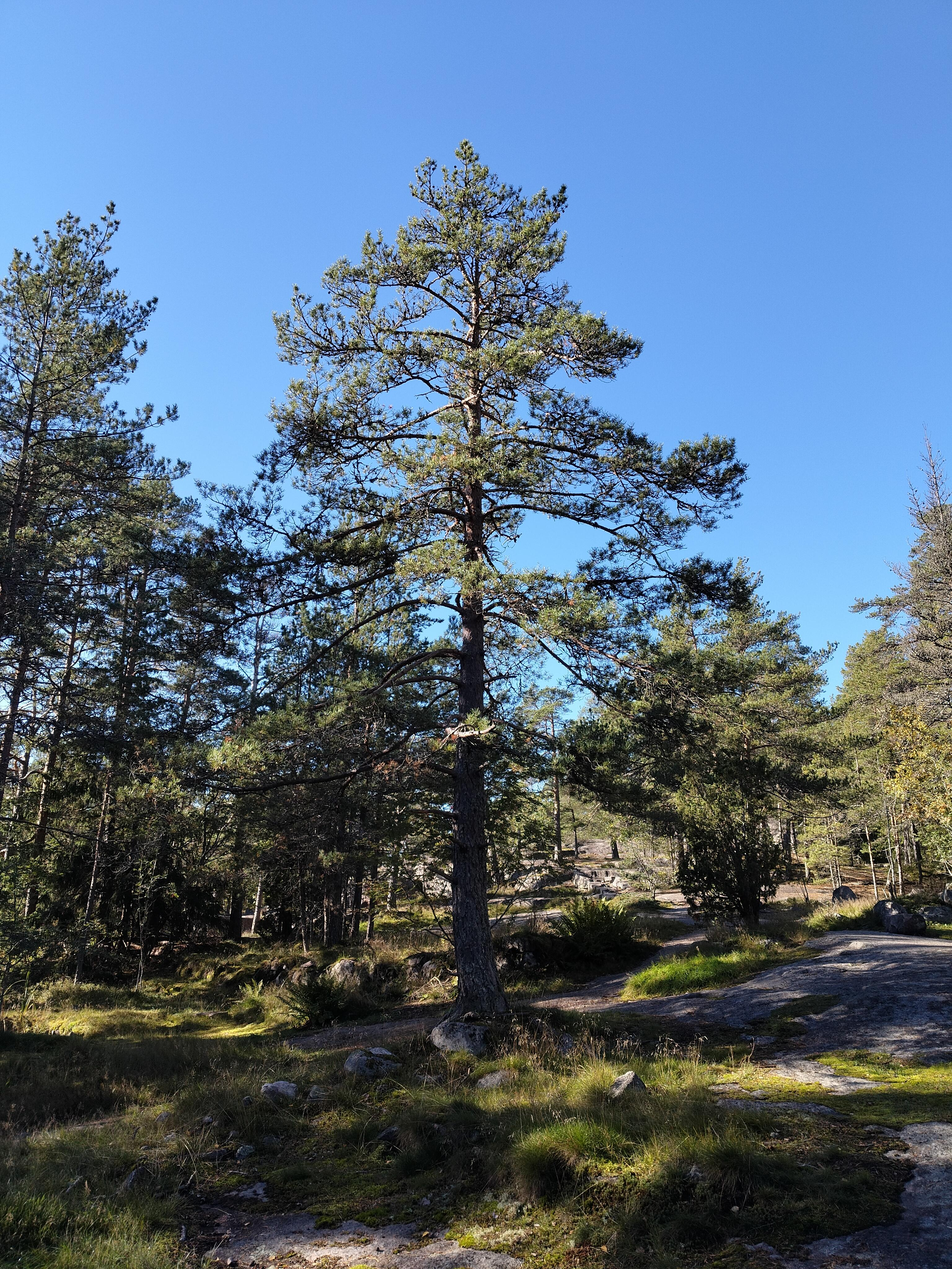Pine: (178, 138, 756, 1041)
